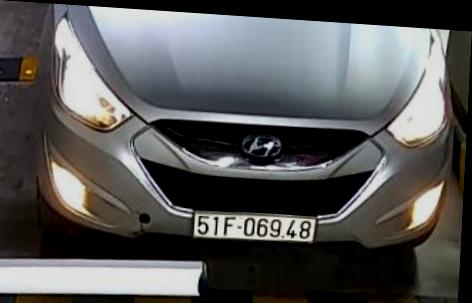License_Plate: (193, 199, 321, 248)
